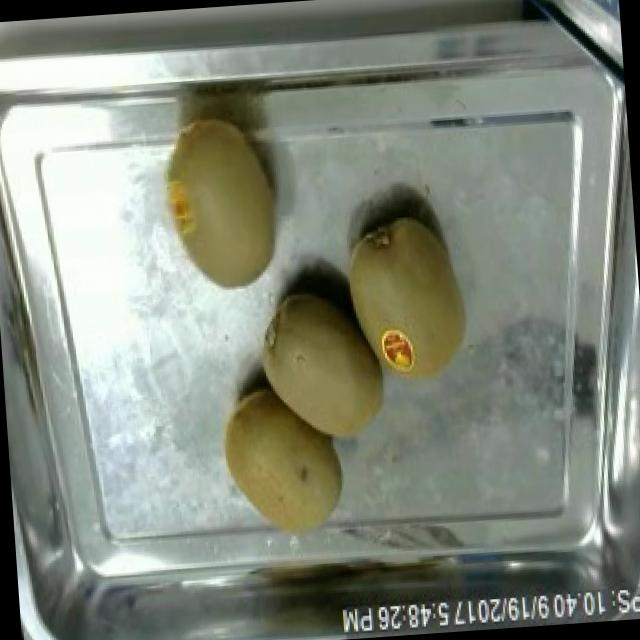Fruit: (147, 106, 294, 301), (332, 202, 477, 396), (249, 278, 396, 454), (208, 373, 353, 548)
